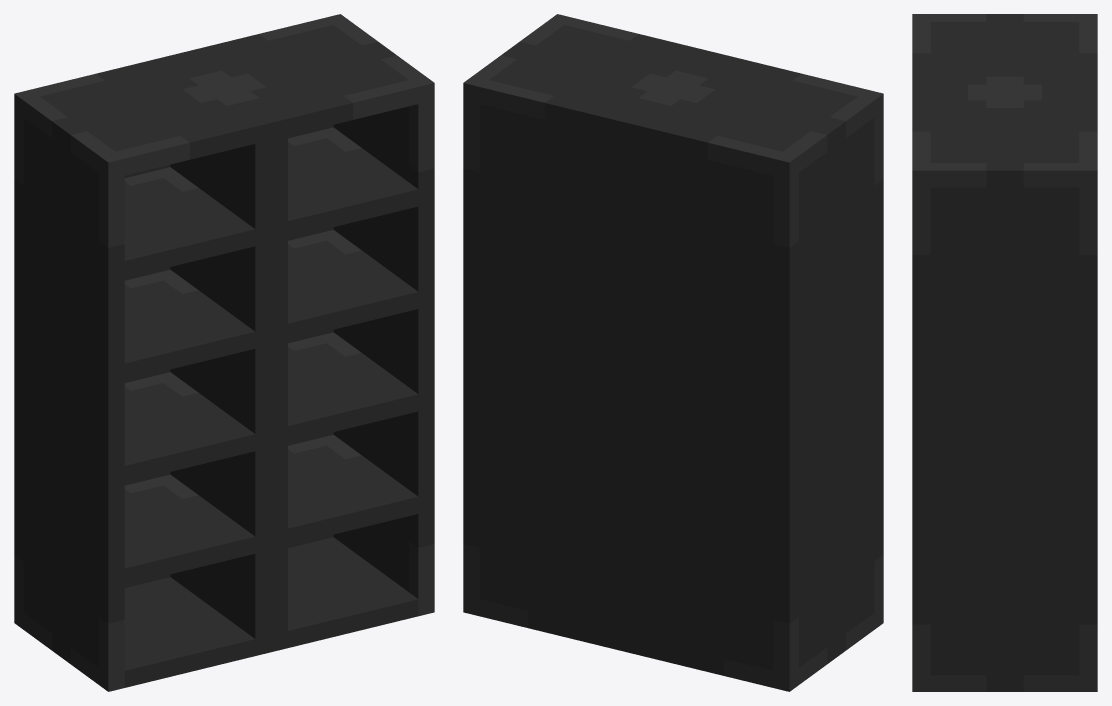
The model's file is Decor-60.obj.
3 views of the same model, side by side, from view 1: azimuth 30°, elevation 25°; view 2: azimuth 150°, elevation 25°; view 3: azimuth 270°, elevation 25° (orthographic).
Bounding box in the file's own units: 2 × 3.1 × 1.
1 material, 1 textured.
